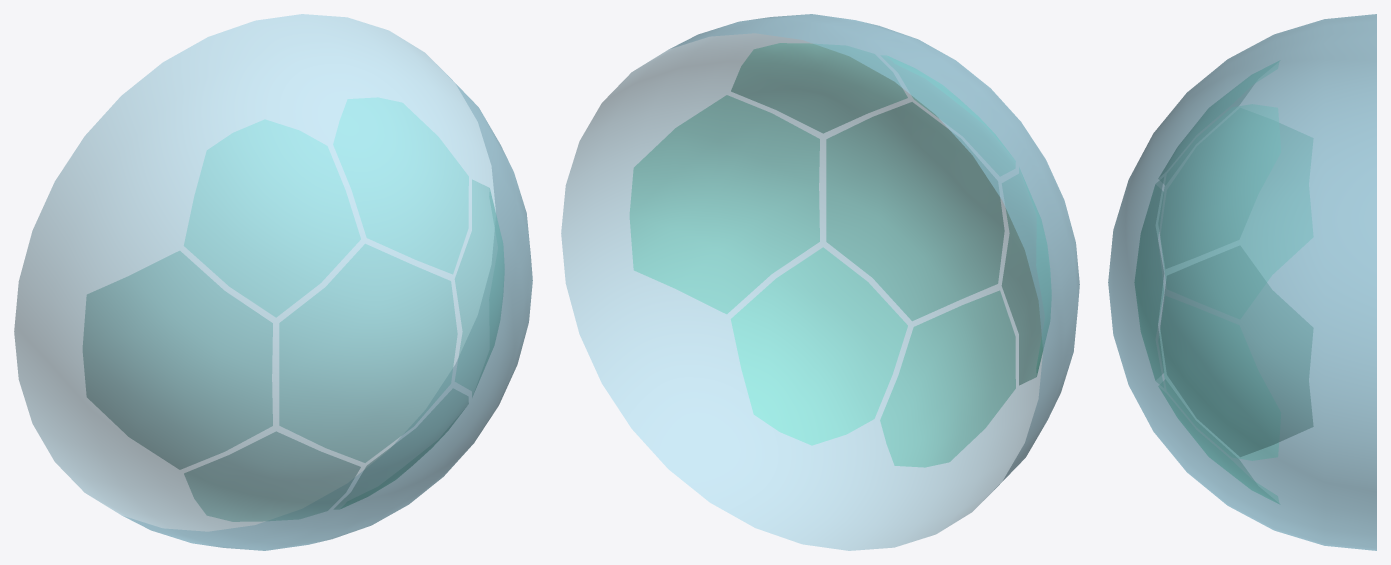
The model's file is Barrier.FBX.
3 renders of one model, left to right at view 1: azimuth 30°, elevation 25°; view 2: azimuth 150°, elevation 25°; view 3: azimuth 270°, elevation 25°, orthographic. The views are drawn at different scales.
Parts seen in each view (by area): view 1: Barrier2, Plane001; view 2: Barrier2, Plane001; view 3: Barrier2, Plane001.
Part boxes in pixels (box(x1,y1,x2,y2)): Barrier2: box(14, 14, 532, 550); Plane001: box(83, 97, 504, 521); Barrier2: box(561, 14, 1079, 550); Plane001: box(629, 43, 1051, 467); Barrier2: box(1108, 14, 1376, 550); Plane001: box(1134, 61, 1313, 503).
Size of the model in its own units: 264 by 264 by 132.
